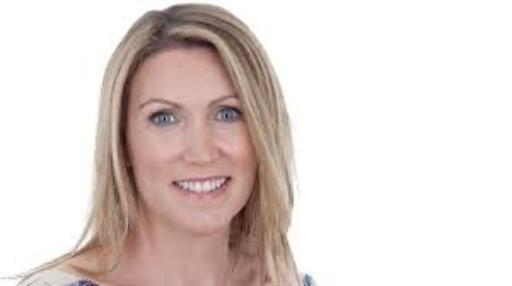left_eye: (216, 109, 245, 125)
left_lip_corner: (223, 174, 242, 184)
right_eye: (149, 112, 181, 127)
right_lip_corner: (164, 178, 181, 191)
